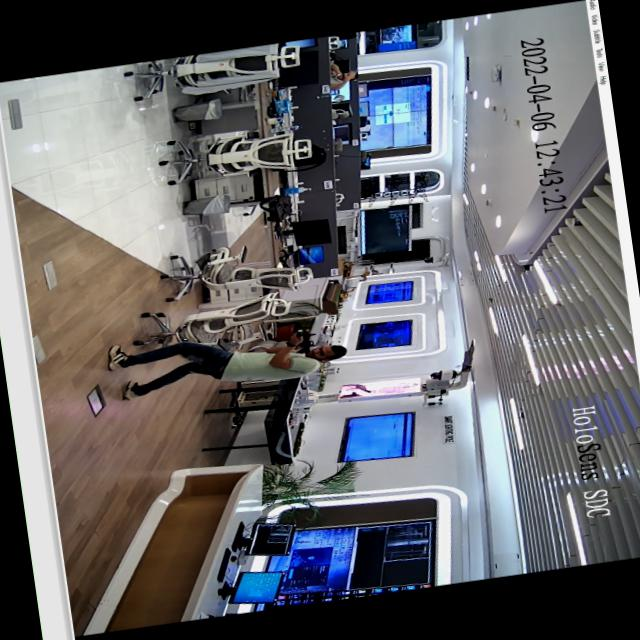long weapon: (284, 327, 318, 358)
